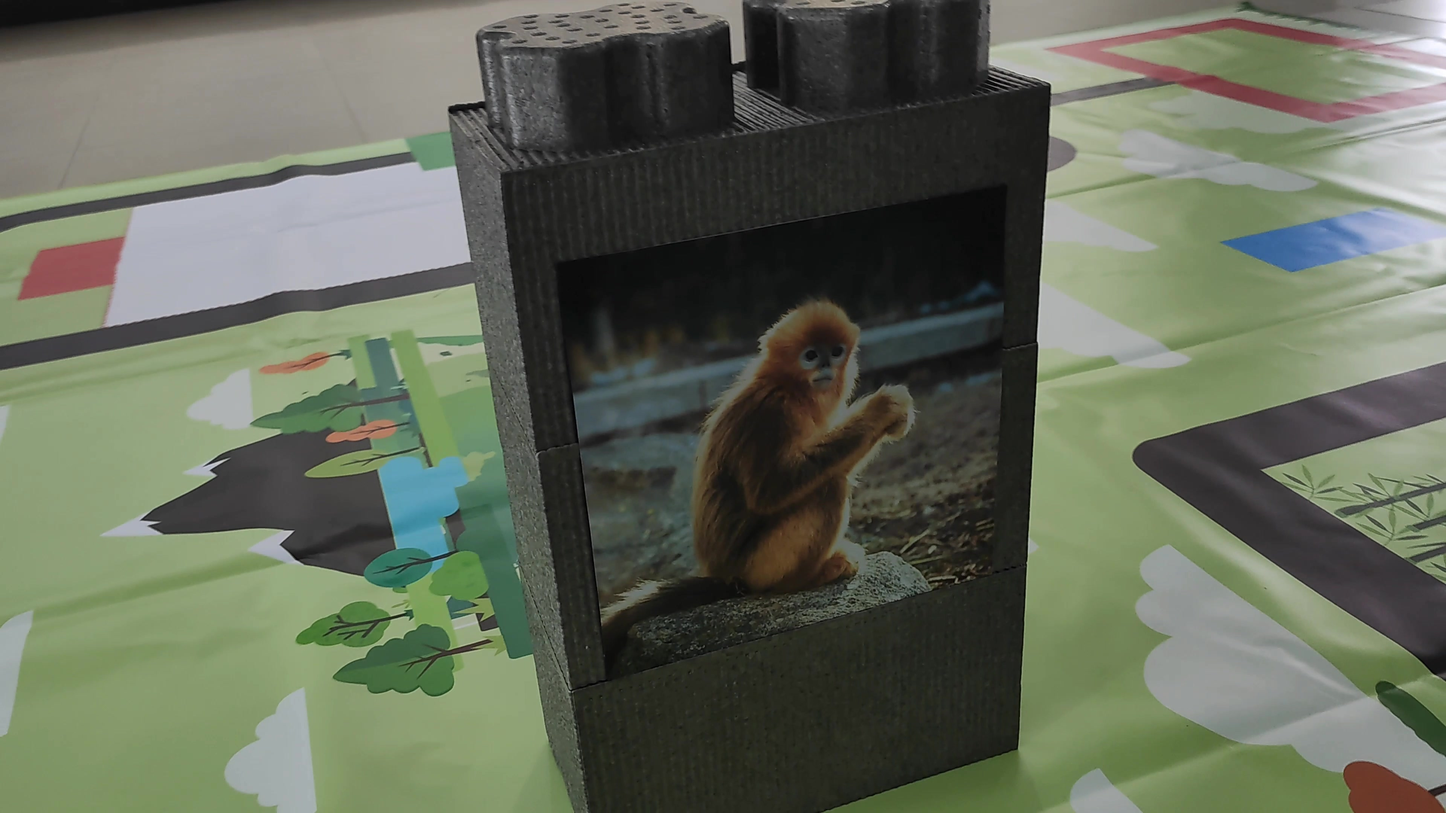monkey: (636, 259, 1004, 592)
